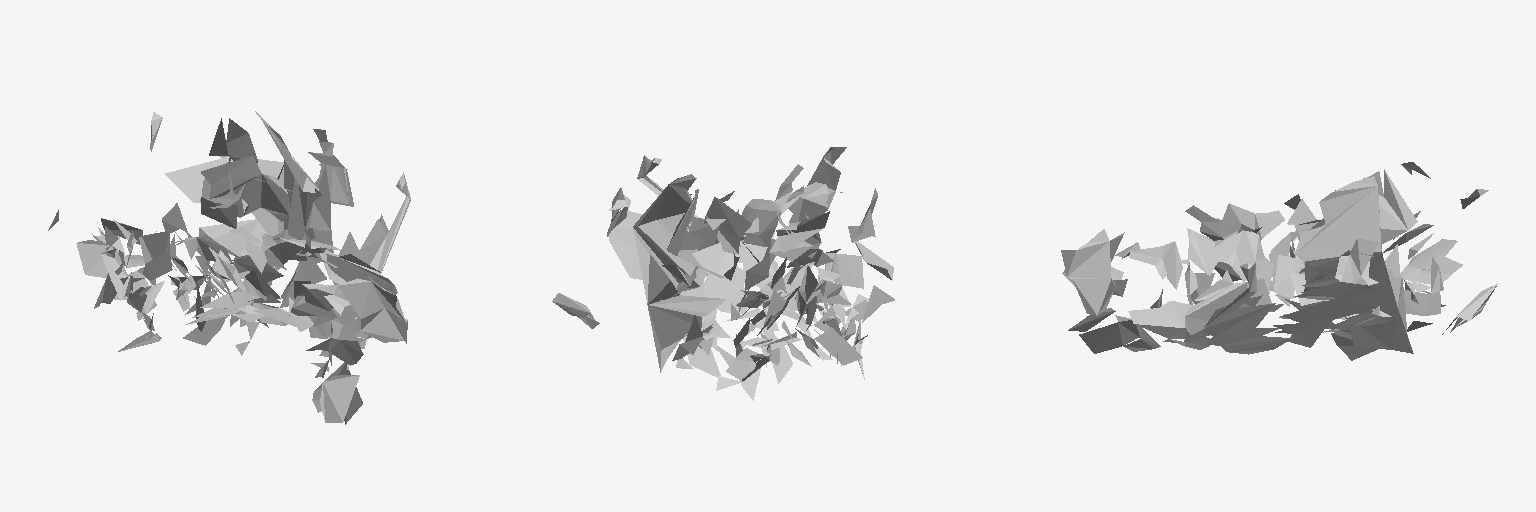
File: spacecraftExplosion_000002.obj
3 views of the same model, side by side, from view 1: azimuth 30°, elevation 25°; view 2: azimuth 150°, elevation 25°; view 3: azimuth 270°, elevation 25° (orthographic).
Parts seen in each view (by area): view 1: Cube; view 2: Cube; view 3: Cube.
Boxes of the visible parts, box(x1,y1,x2,y2) form: Cube: box(48, 111, 410, 424); Cube: box(552, 147, 894, 400); Cube: box(1061, 162, 1498, 360).
Size of the model in its own units: 7.34 by 4.98 by 9.77.